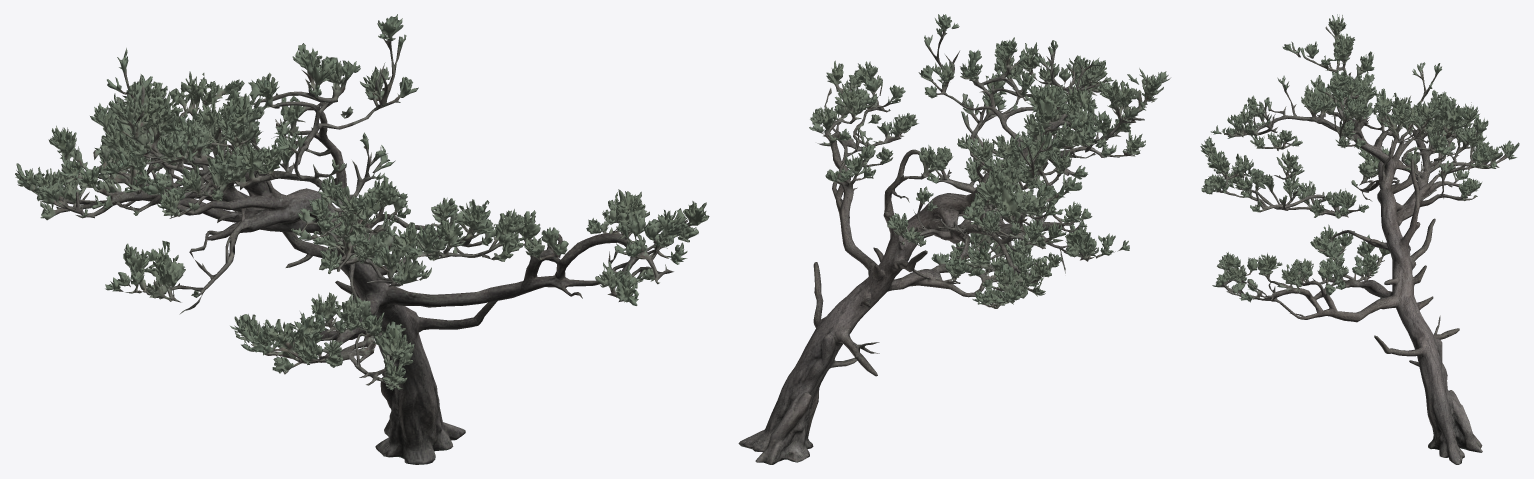
File: storm-bent-coastal-pine.glb
3 renders of one model, left to right at view 1: azimuth 30°, elevation 25°; view 2: azimuth 150°, elevation 25°; view 3: azimuth 270°, elevation 25°, orthographic. The views are drawn at different scales.
Parts seen in each view (by area): view 1: geom0; view 2: geom0; view 3: geom0.
Boxes of the visible parts, x1,y1,x2,y2 form: geom0: (15, 14, 709, 464); geom0: (738, 14, 1170, 464); geom0: (1200, 14, 1519, 464).
Bounding box in the file's own units: 0.9644 × 0.9412 × 0.8383.
1 material, 1 textured.
